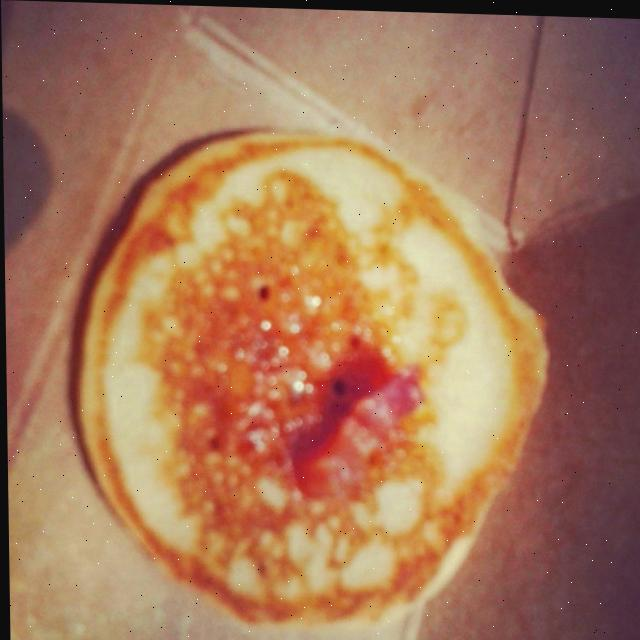蛋糕甜品: (27, 13, 590, 640)
